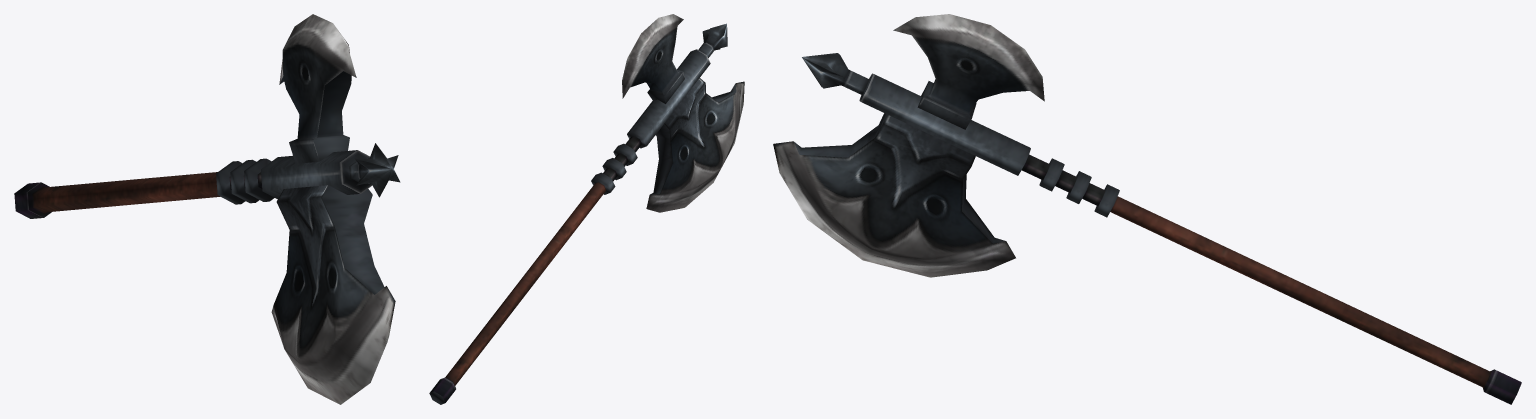
File: Berserker-righthandweapon02.FBX
3 views of the same model, side by side, from view 1: azimuth 30°, elevation 25°; view 2: azimuth 150°, elevation 25°; view 3: azimuth 270°, elevation 25° (orthographic). The views are drawn at different scales.
Parts seen in each view (by area): view 1: berserker-righthandweapon019; view 2: berserker-righthandweapon019; view 3: berserker-righthandweapon019.
Part boxes in pixels (bbox=[...]): berserker-righthandweapon019: bbox=[14, 14, 400, 404]; berserker-righthandweapon019: bbox=[429, 14, 744, 404]; berserker-righthandweapon019: bbox=[773, 14, 1521, 404].
Size of the model in its own units: 40.07 by 128 by 234.
